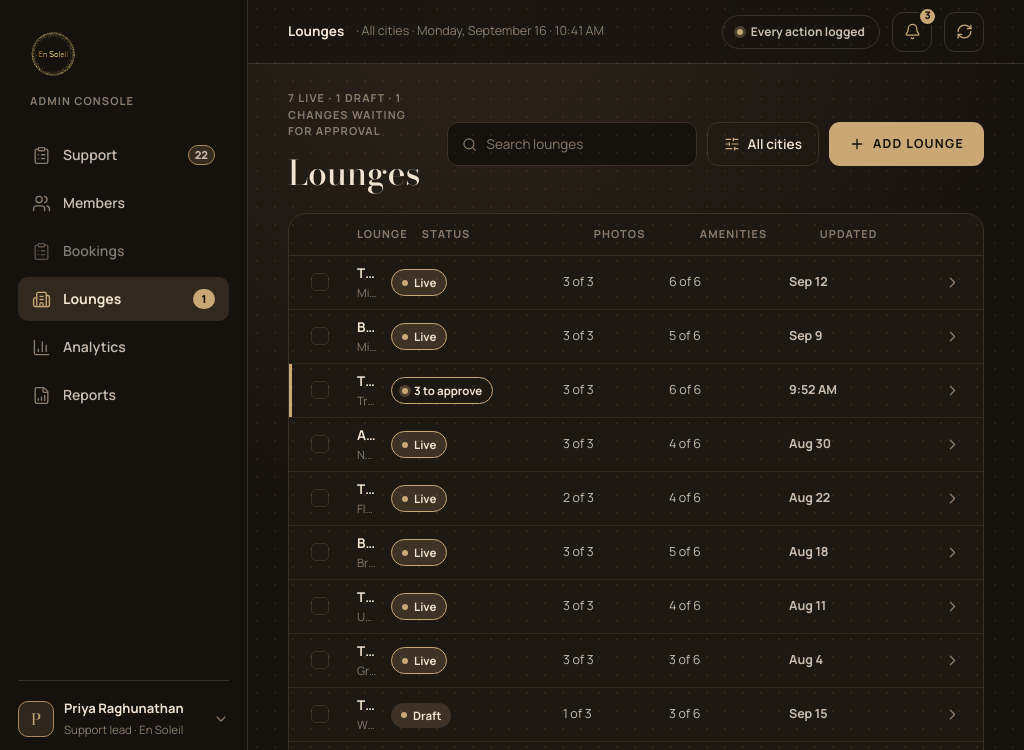
Test case: Lounges (/admin/lounges) › shows the bulk action bar once lounges are selected, and clears it
Click the checkbox named "Select The Ainsworth": (320, 282) [311,273,329,291]
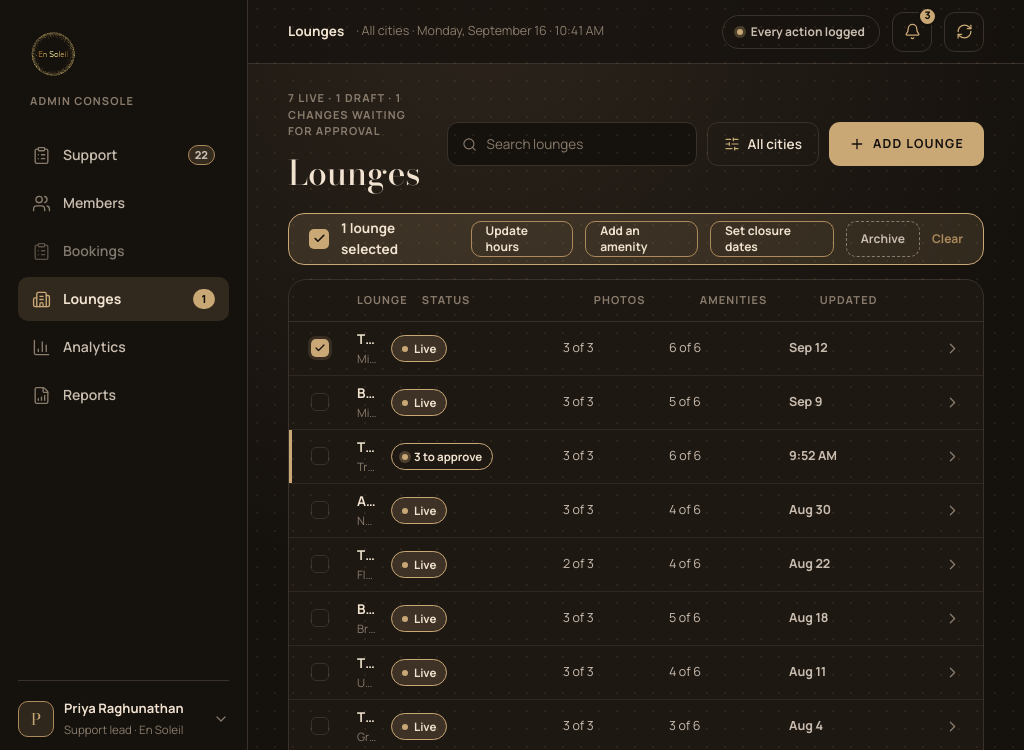
Now the text "1 lounge selected" is shown, box [341,219,398,258]
Click the checkbox named "Select Bergdorf Lounge": (320, 402) [311,393,329,411]
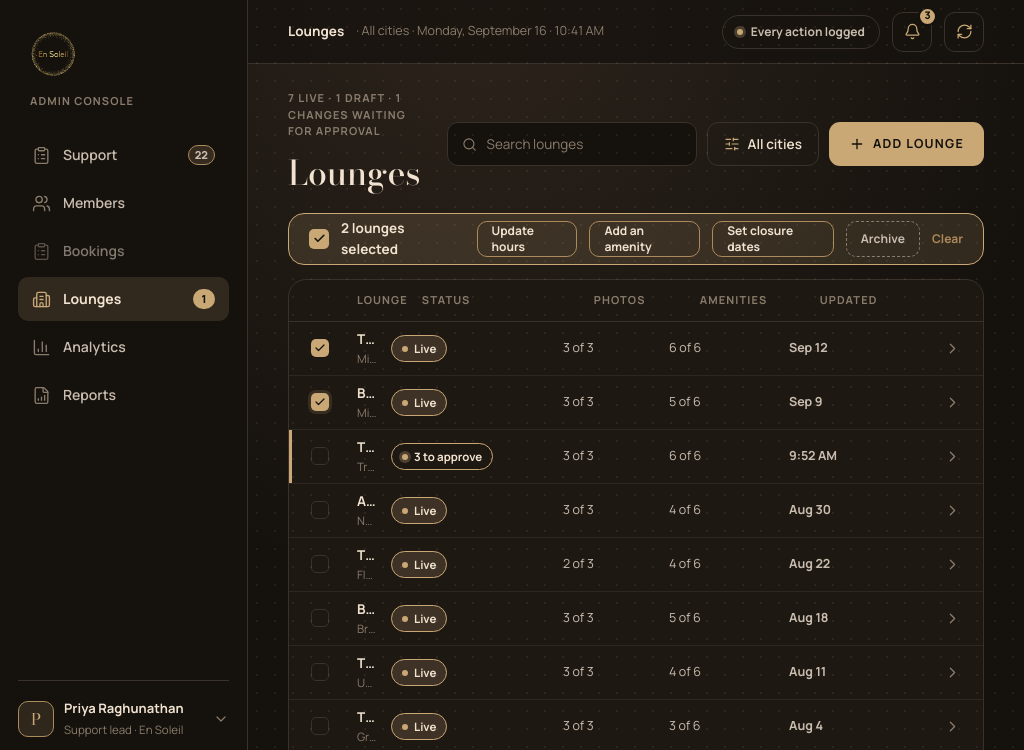
Now the text "2 lounges selected" is shown, box [341,219,404,258]
Click the button "Clear": (948, 238) [932,230,963,246]
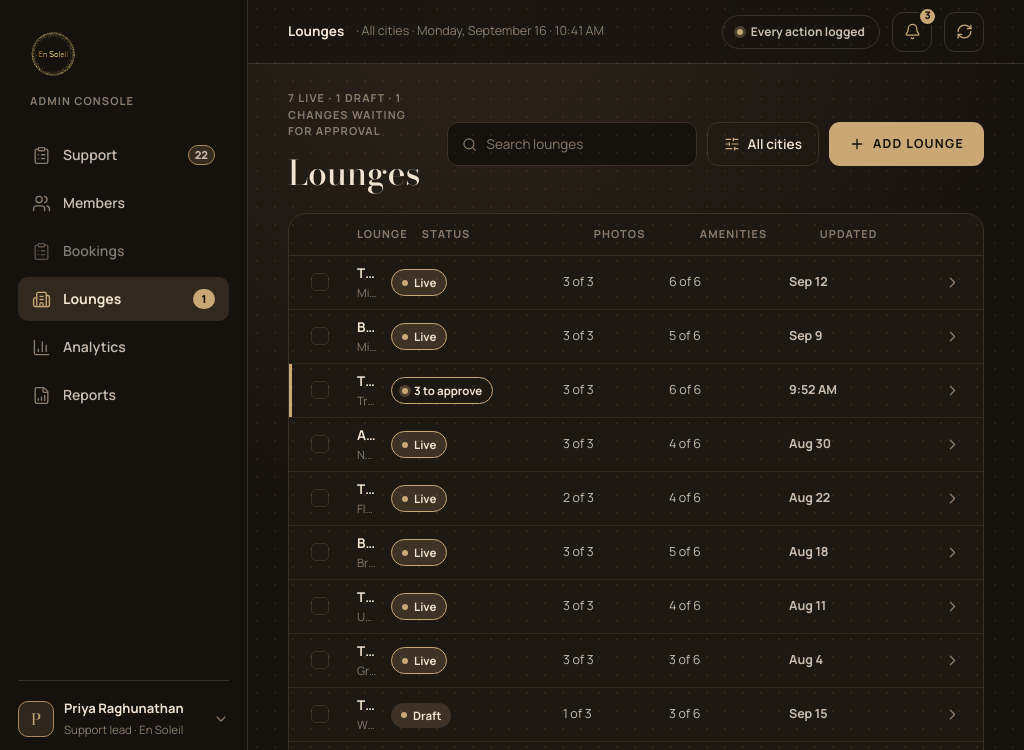
Now the text "2 lounges selected" is gone
